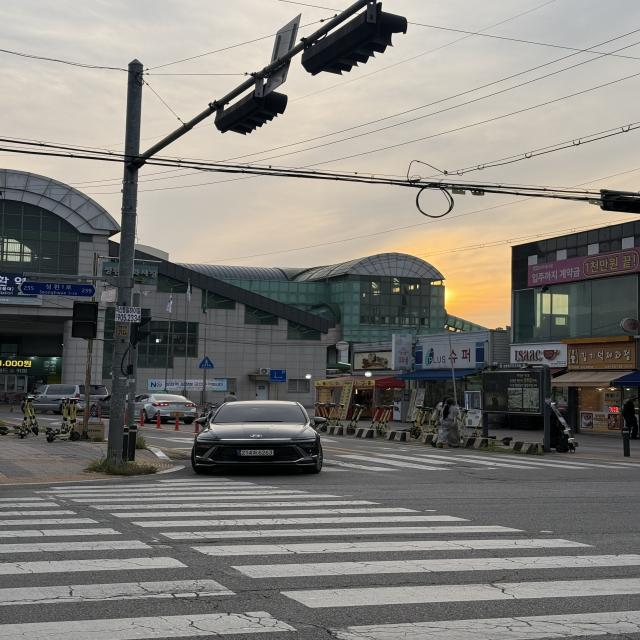car: (189, 398, 327, 476), (94, 393, 197, 424)
